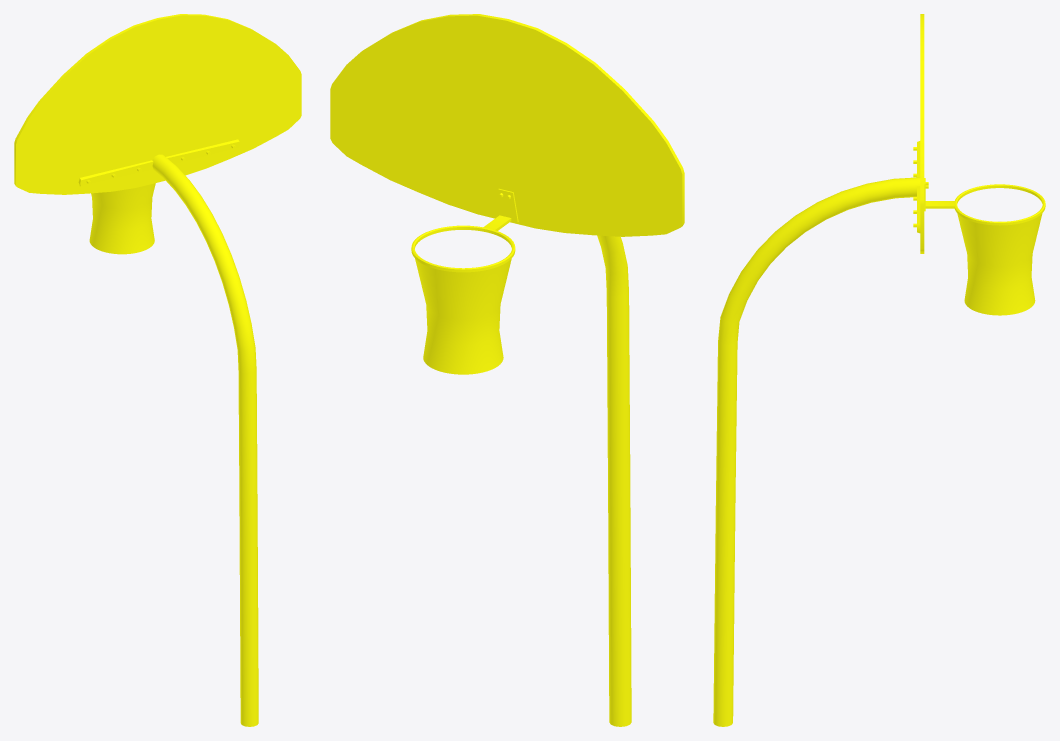
File: SM_Basketball.glb
3 renders of one model, left to right at view 1: azimuth 30°, elevation 25°; view 2: azimuth 150°, elevation 25°; view 3: azimuth 270°, elevation 25°, orthographic. The views are drawn at different scales.
Parts seen in each view (by area): view 1: SM_Basketball_LOD0; view 2: SM_Basketball_LOD0; view 3: SM_Basketball_LOD0.
Part boxes in pixels (bbox=[...]): SM_Basketball_LOD0: bbox=[14, 14, 301, 726]; SM_Basketball_LOD0: bbox=[330, 14, 684, 726]; SM_Basketball_LOD0: bbox=[713, 14, 1045, 726].
Bounding box in the file's own units: 1.82 × 3.87 × 1.69.
2 materials, 2 textured.
